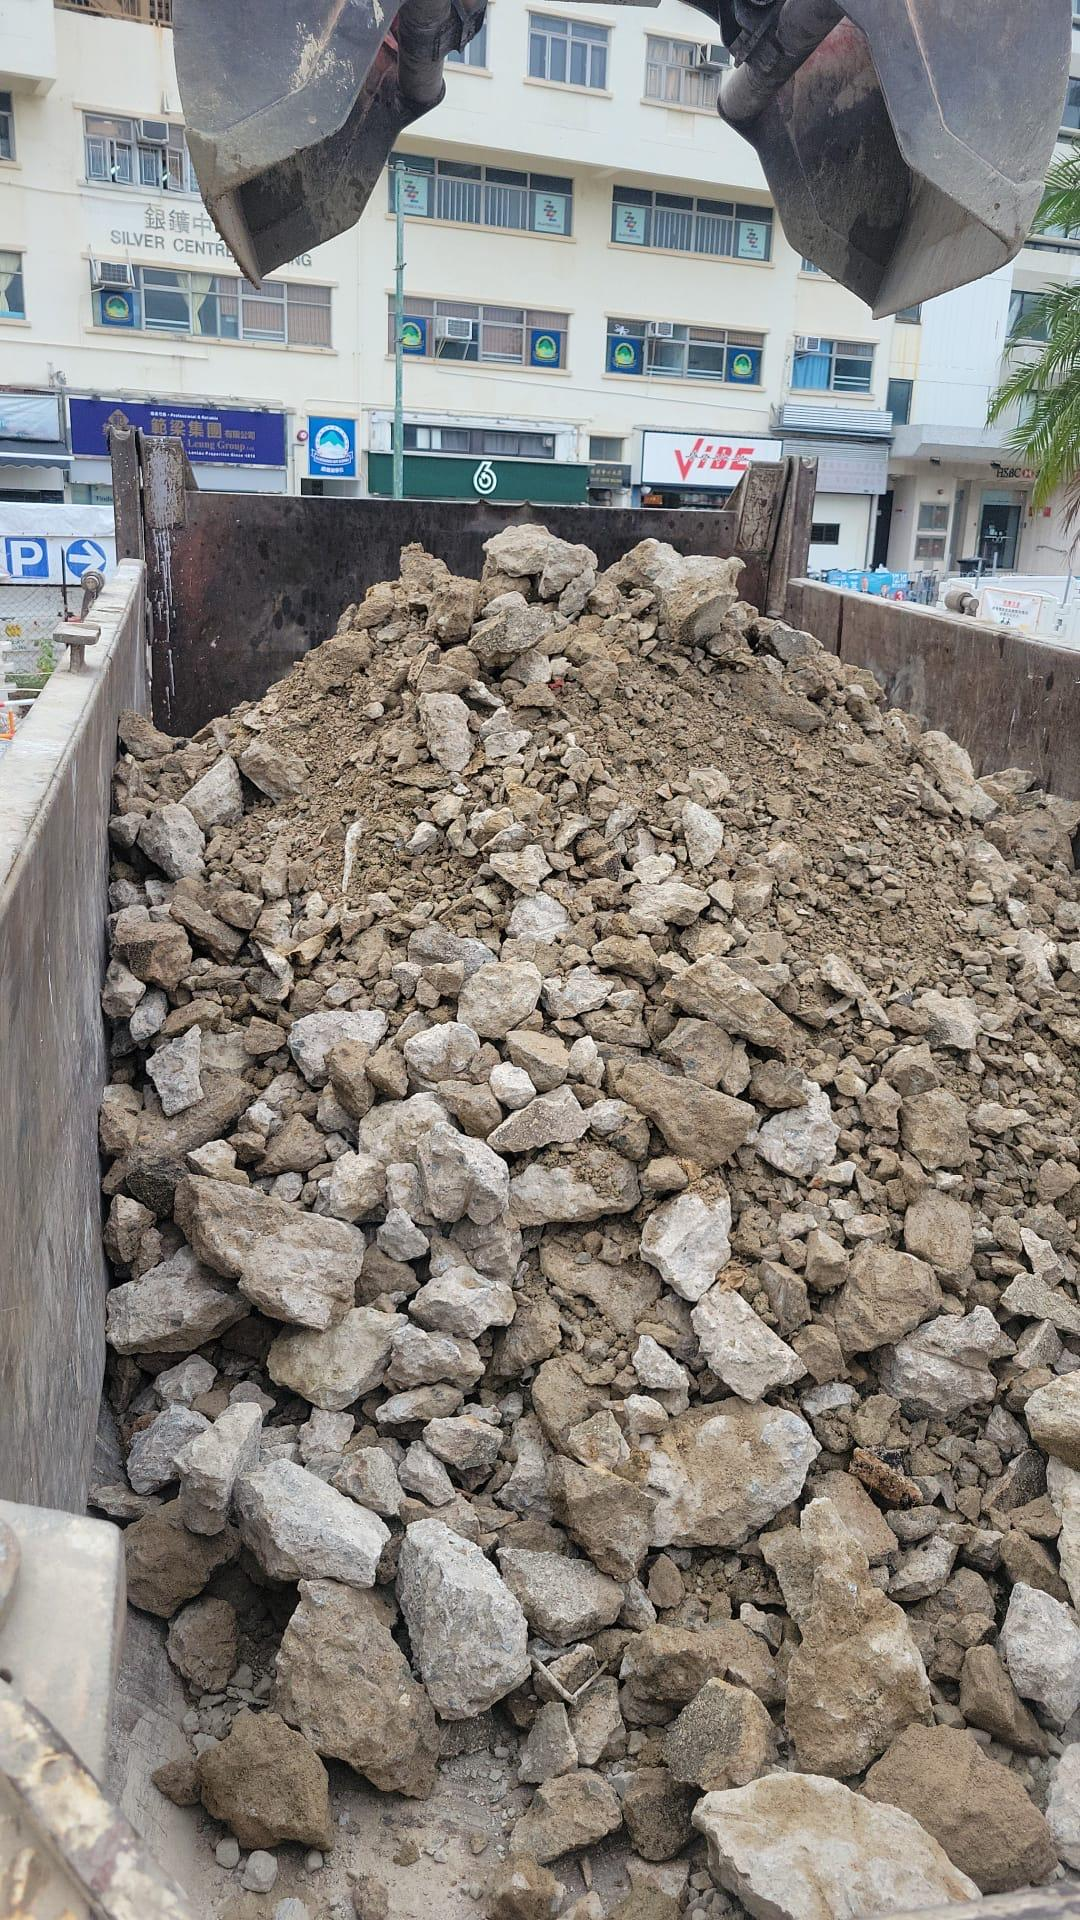dirt: (94, 521, 1078, 1916)
